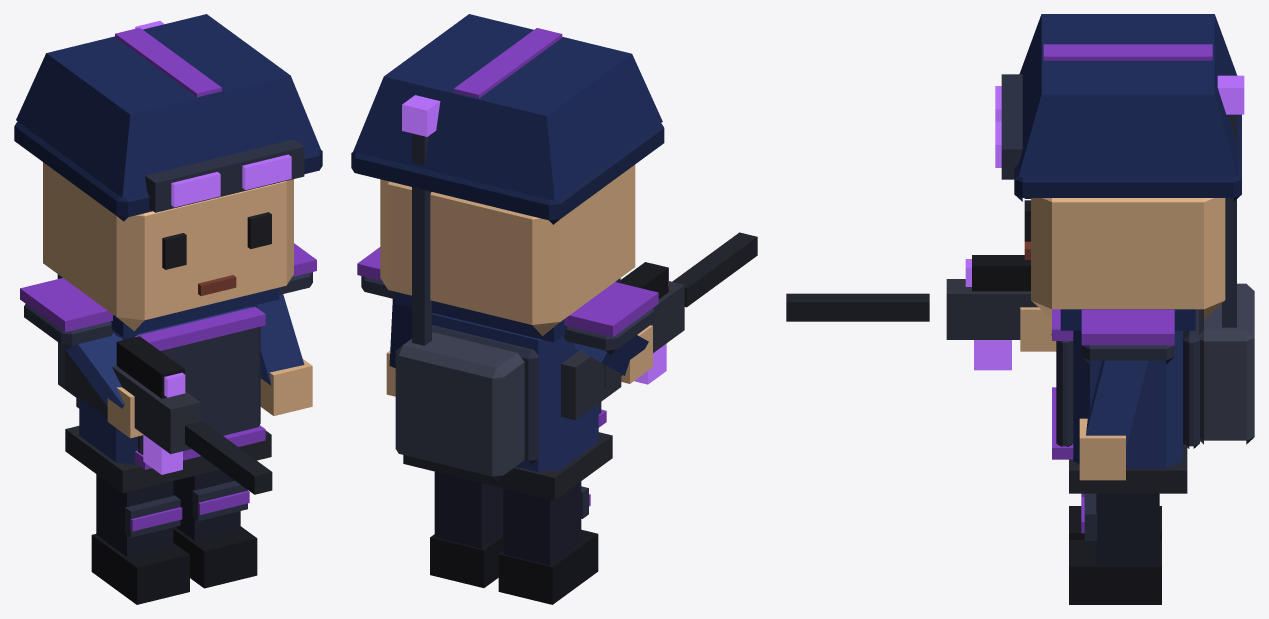
Rendered from rifleman_rare.glb.
3 views of the same model, side by side, from view 1: azimuth 30°, elevation 25°; view 2: azimuth 150°, elevation 25°; view 3: azimuth 270°, elevation 25° (orthographic). The views are drawn at different scales.
Parts seen in each view (by area): view 1: rifleman_rare_mesh; view 2: rifleman_rare_mesh; view 3: rifleman_rare_mesh.
Boxes of the visible parts, bbox=[...] form: rifleman_rare_mesh: bbox=[14, 14, 322, 604]; rifleman_rare_mesh: bbox=[351, 14, 757, 604]; rifleman_rare_mesh: bbox=[786, 14, 1254, 604].
Size of the model in its own units: 0.6737 by 1.3 by 1.05.
Materials: 2 (2 with a texture image).
